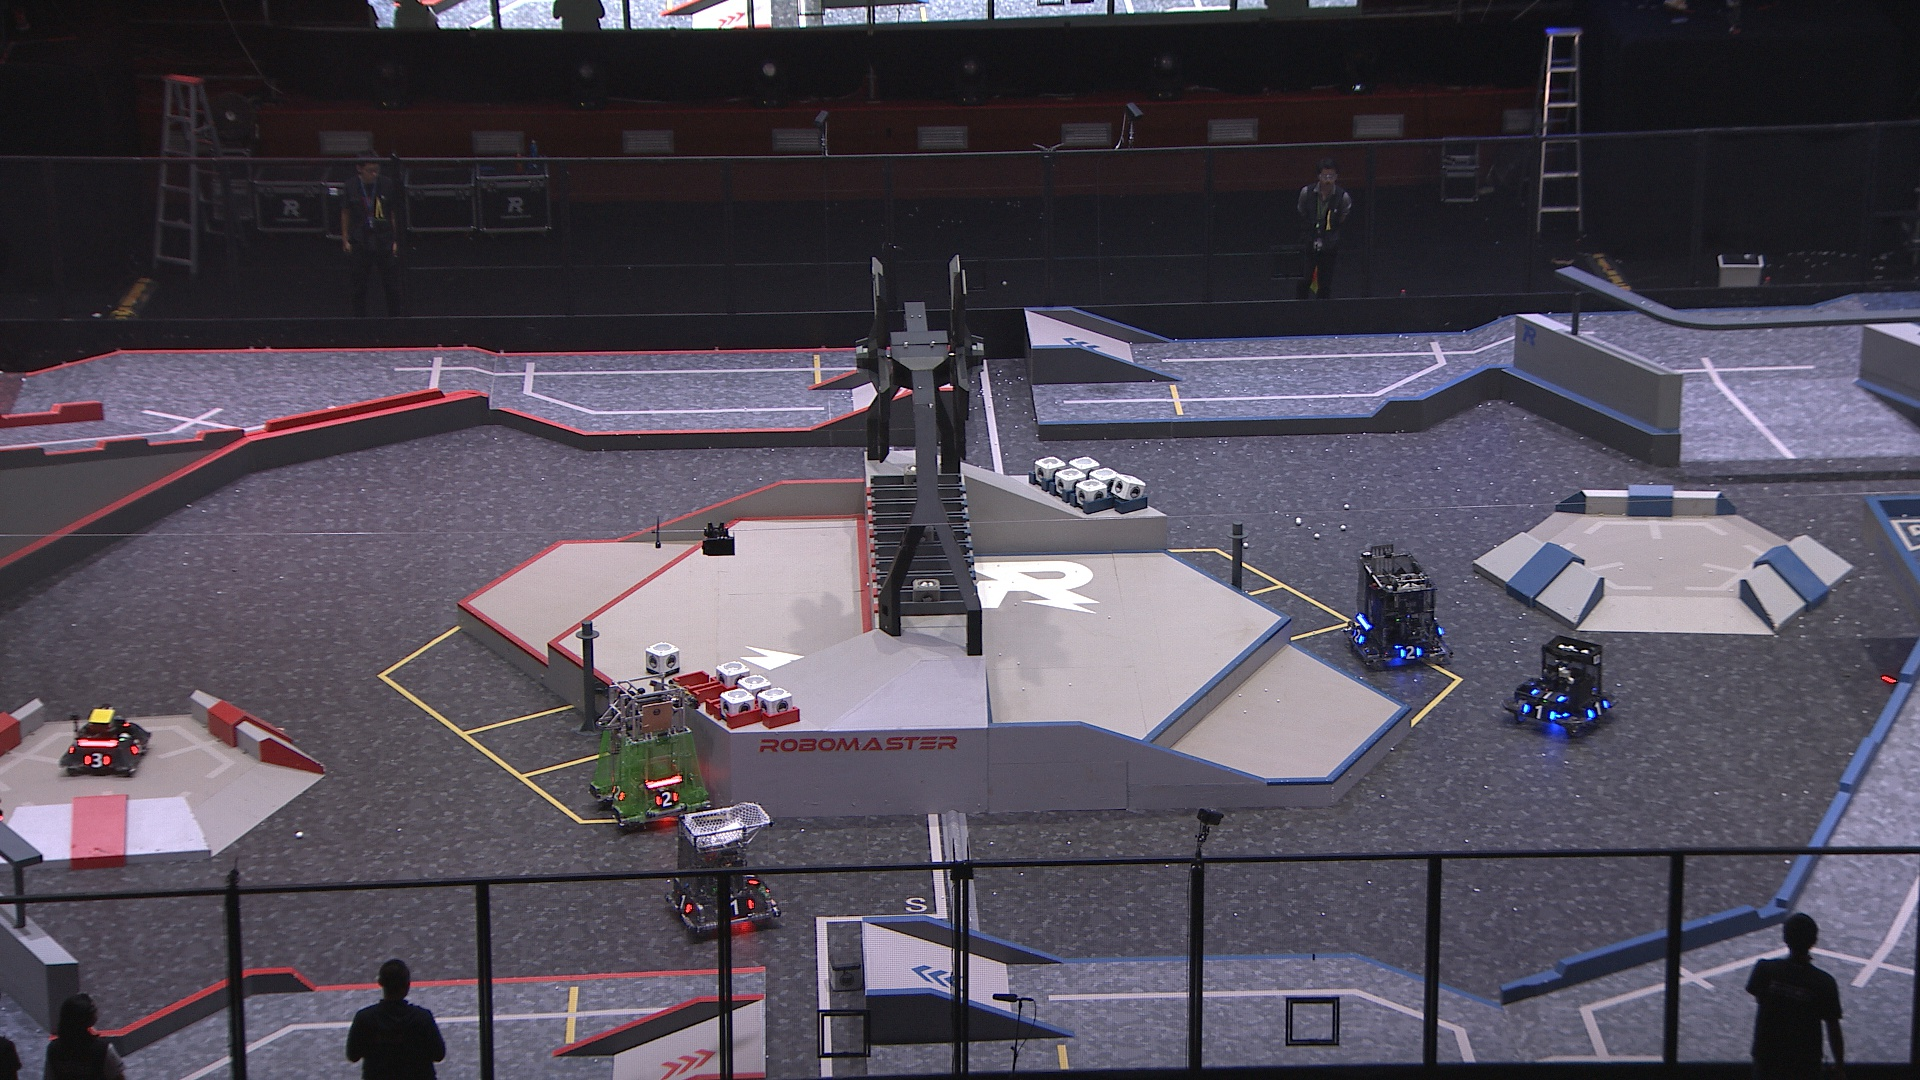armor: (1522, 702, 1556, 723), (1528, 687, 1567, 704), (728, 894, 756, 916), (1586, 699, 1610, 723), (673, 889, 694, 913), (82, 752, 111, 769), (655, 790, 680, 808), (1399, 645, 1424, 661), (131, 736, 148, 756), (611, 783, 626, 804), (1352, 628, 1367, 646), (744, 870, 760, 887)
car: (588, 673, 717, 829), (665, 803, 785, 938), (1346, 541, 1452, 674), (1501, 633, 1621, 741), (59, 703, 150, 775)
